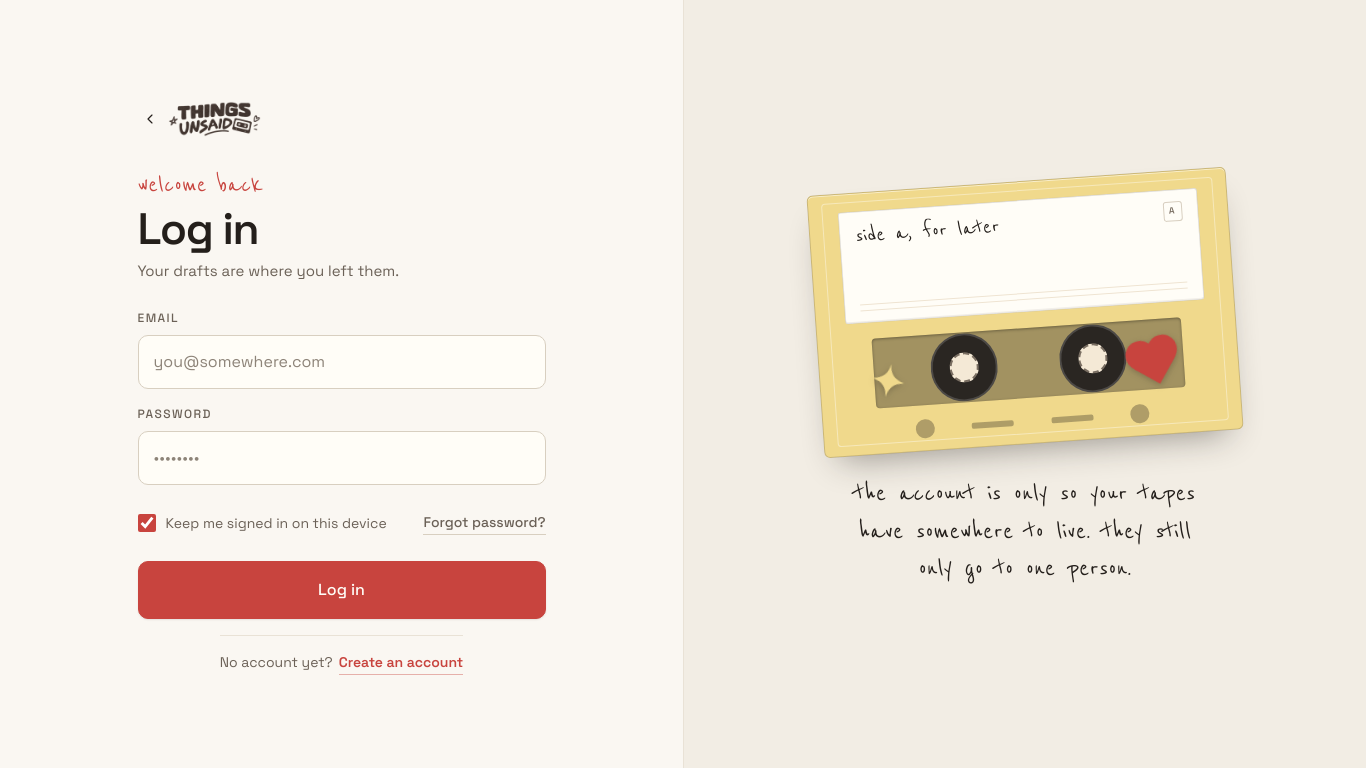
Scenario: a link that cannot be resolved › sends an expired tape to the faded-away screen
Type "wren@somewhere.com" into the field labelled "Email".
click(342, 362); type("wren@somewhere.com")  # box [138,335,546,389]
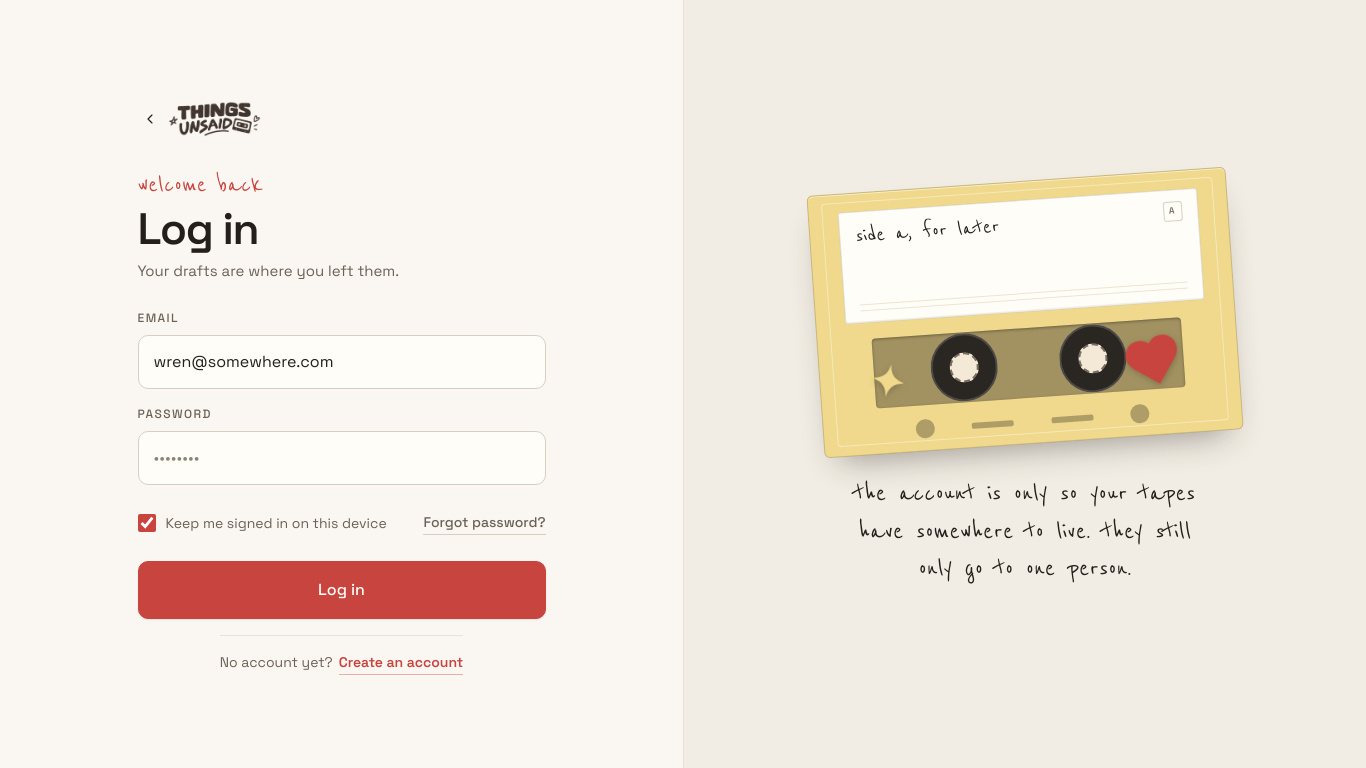
Type "longenough1" into the password field labelled "Password".
click(342, 458); type("longenough1")  # box [138,431,546,485]
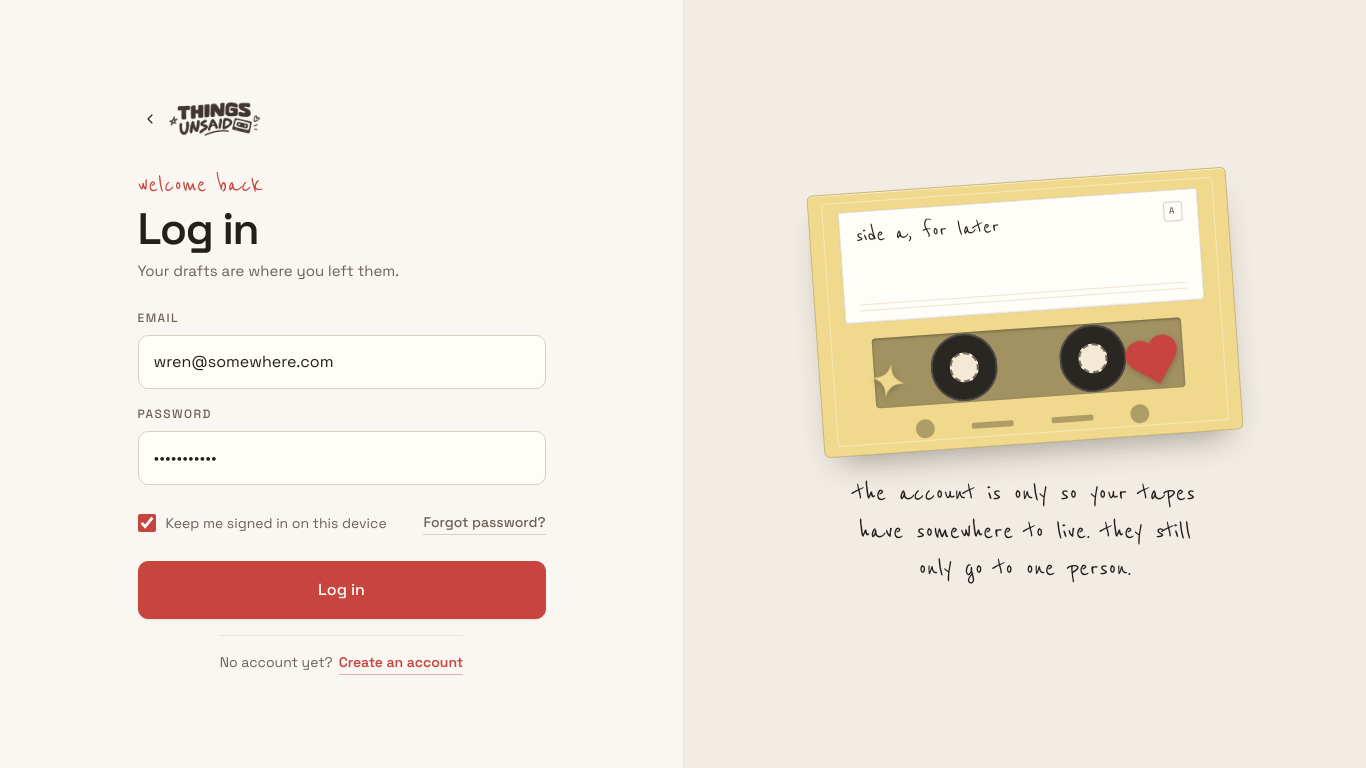
Click the button "Log in".
click(342, 590)  # box [138,561,546,619]
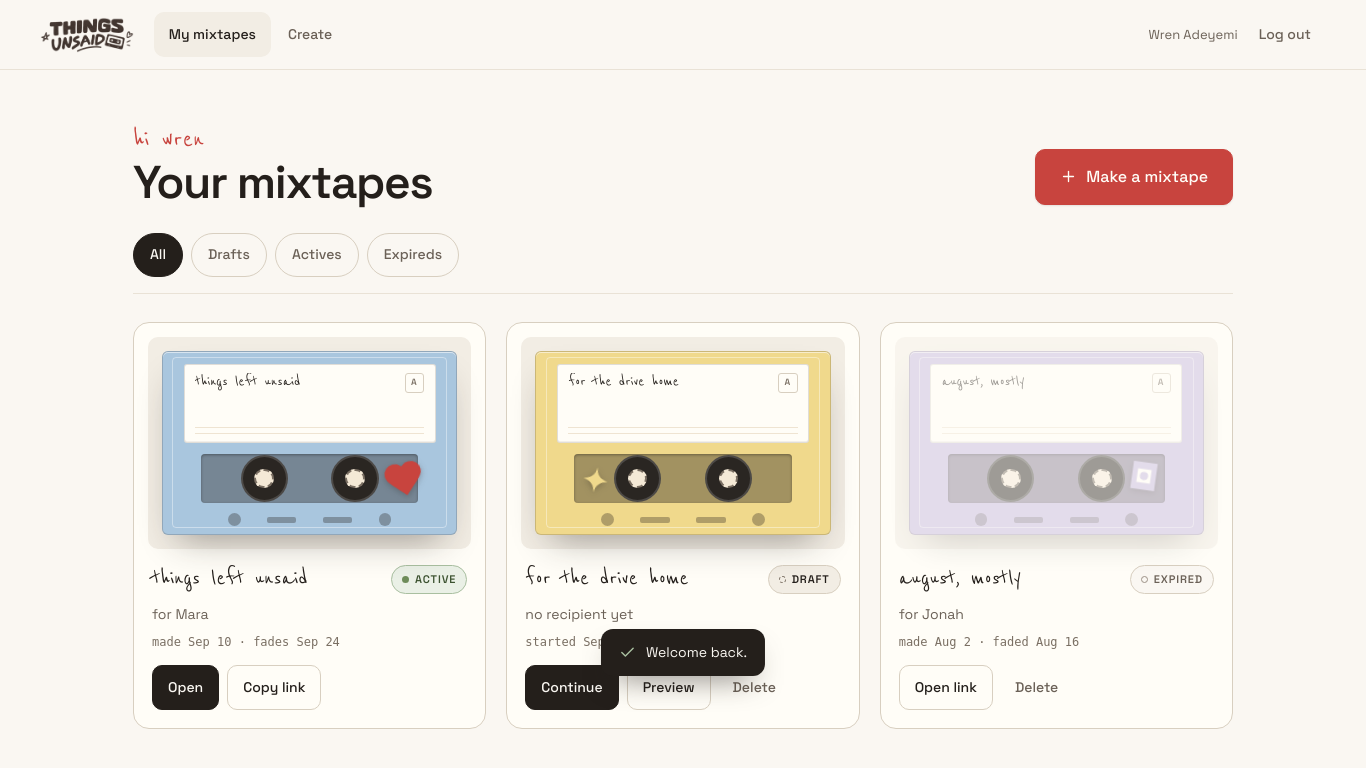
Expected: the heading "Your mixtapes" is shown, [133,159,432,205]
Click the button with aria-label "Open expired link for august, mostly".
click(946, 687)  # box [899,665,993,710]
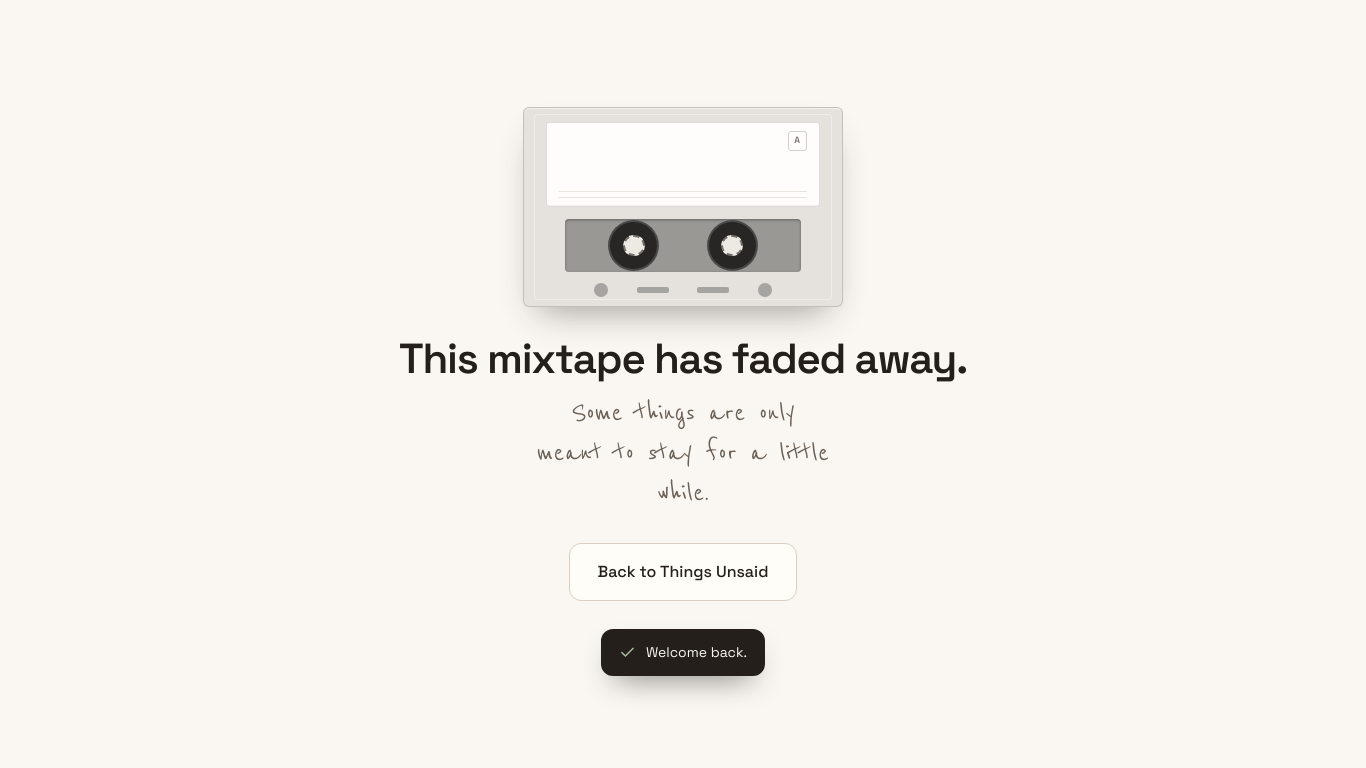
Expected: the heading "This mixtape has faded away." is shown, [399,337,967,381]
